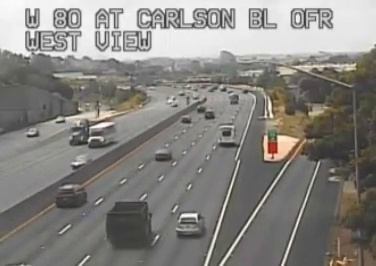bus: (217, 124, 235, 145)
car: (175, 212, 204, 236), (55, 184, 85, 207)
small-truck: (107, 202, 151, 243)
